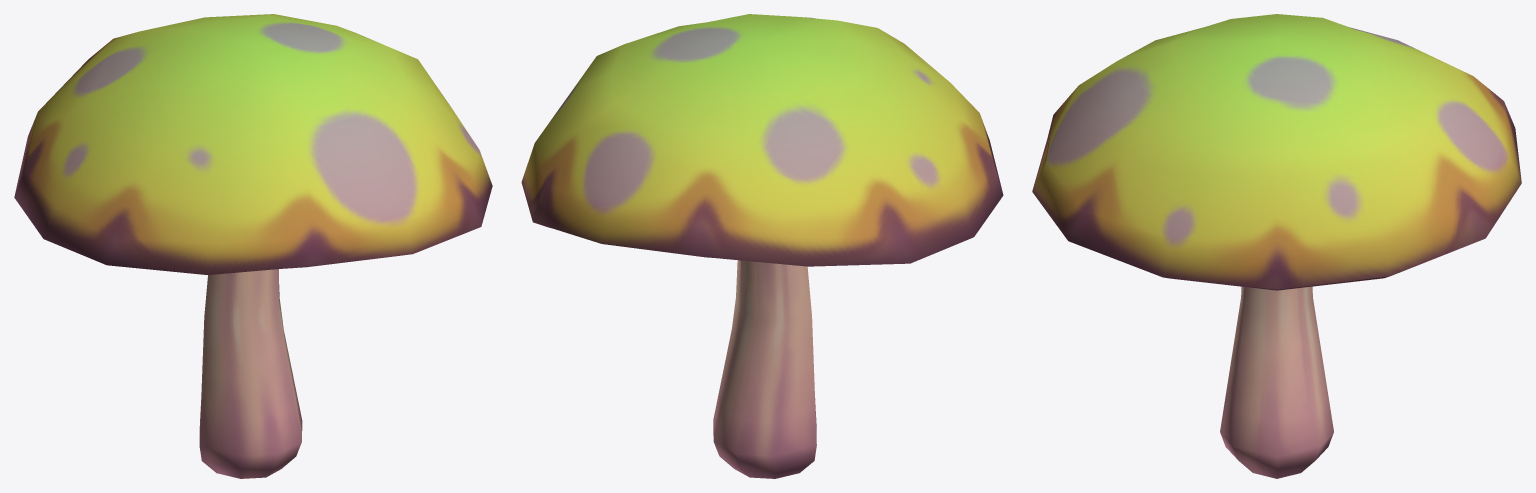
File: MD_mushroom_Nomal_M.fbx
3 renders of one model, left to right at view 1: azimuth 30°, elevation 25°; view 2: azimuth 150°, elevation 25°; view 3: azimuth 270°, elevation 25°, orthographic.
Parts seen in each view (by area): view 1: mushroom_Nomal_M1; view 2: mushroom_Nomal_M1; view 3: mushroom_Nomal_M1.
Boxes of the visible parts, bbox=[...] form: mushroom_Nomal_M1: bbox=[14, 14, 492, 478]; mushroom_Nomal_M1: bbox=[521, 14, 1003, 478]; mushroom_Nomal_M1: bbox=[1032, 14, 1521, 478].
Bounding box in the file's own units: 1433 × 1384 × 1447.
1 material, 1 textured.
